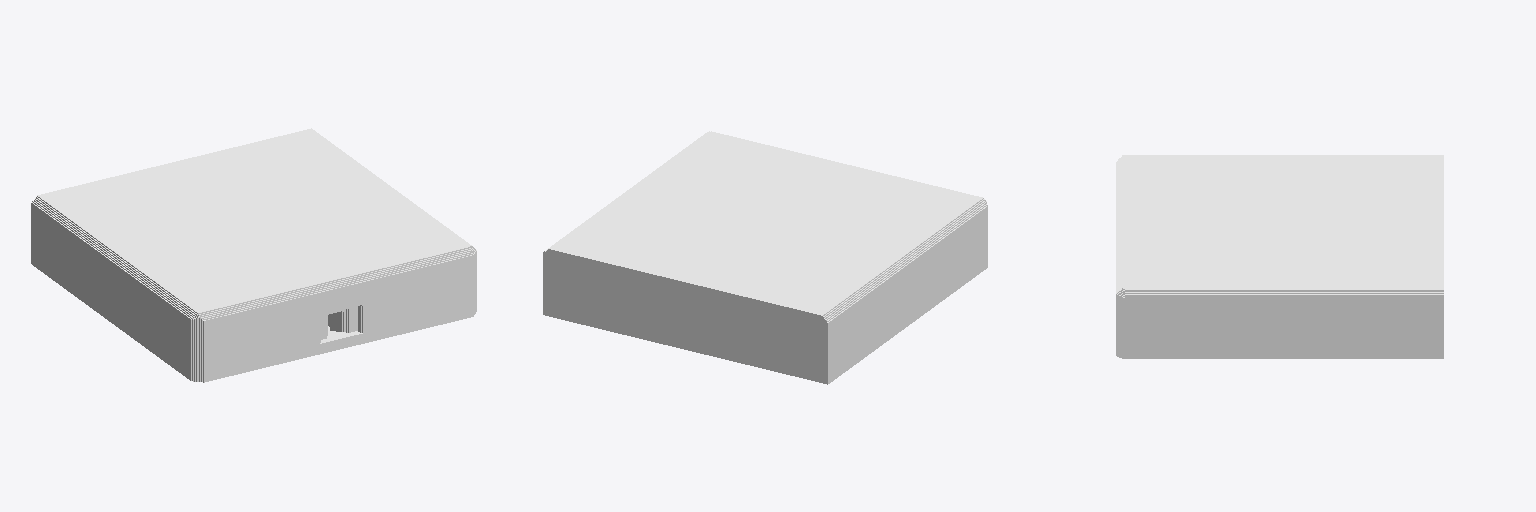
The model's file is bigenter.obj.
3 views of the same model, side by side, from view 1: azimuth 30°, elevation 25°; view 2: azimuth 150°, elevation 25°; view 3: azimuth 270°, elevation 25° (orthographic).
Visible parts, largest first — view 1: object 1; view 2: object 1; view 3: object 1.
Boxes of the visible parts, x1=… form: object 1: x1=31, y1=128, x2=476, y2=382; object 1: x1=543, y1=131, x2=987, y2=384; object 1: x1=1116, y1=155, x2=1443, y2=358.
Size of the model in its own units: 25.6 by 5.8 by 25.6.